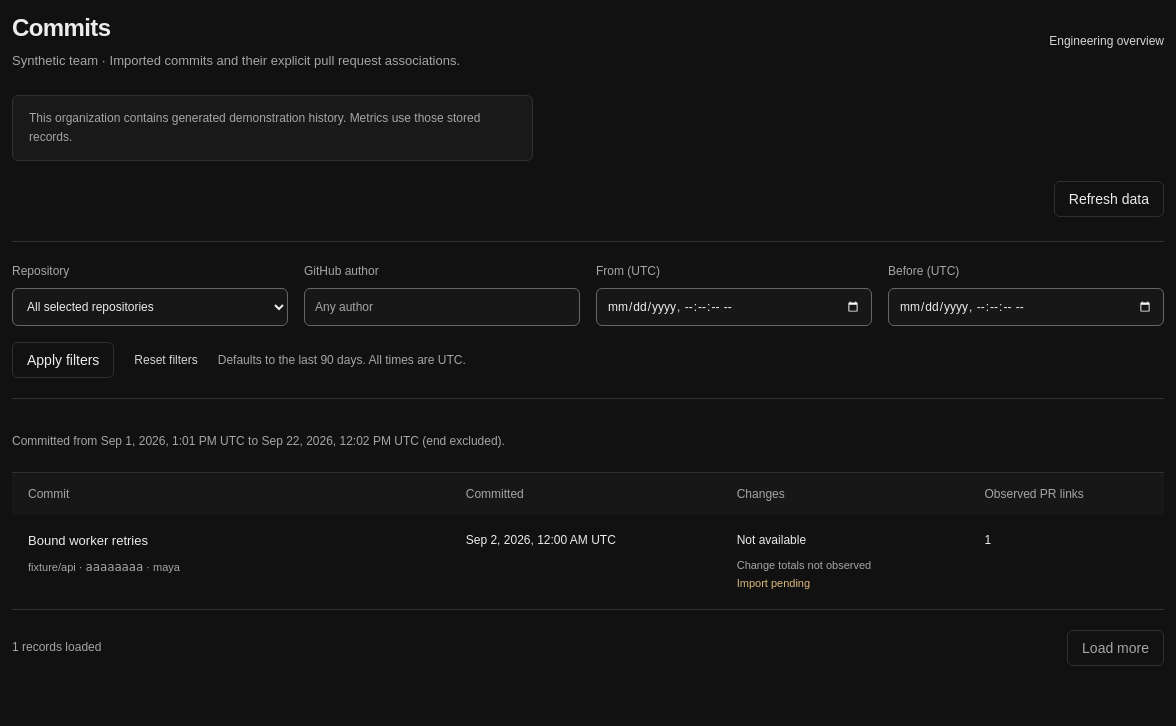
Test case: analytics presentation contracts › keeps loaded commits when the next page fails and retries the same cursor
Expected: the link "Bound worker retries" is shown, [28,533,148,548]
Click the button "Load more" at (1116, 648), box [1067,630,1164,666]
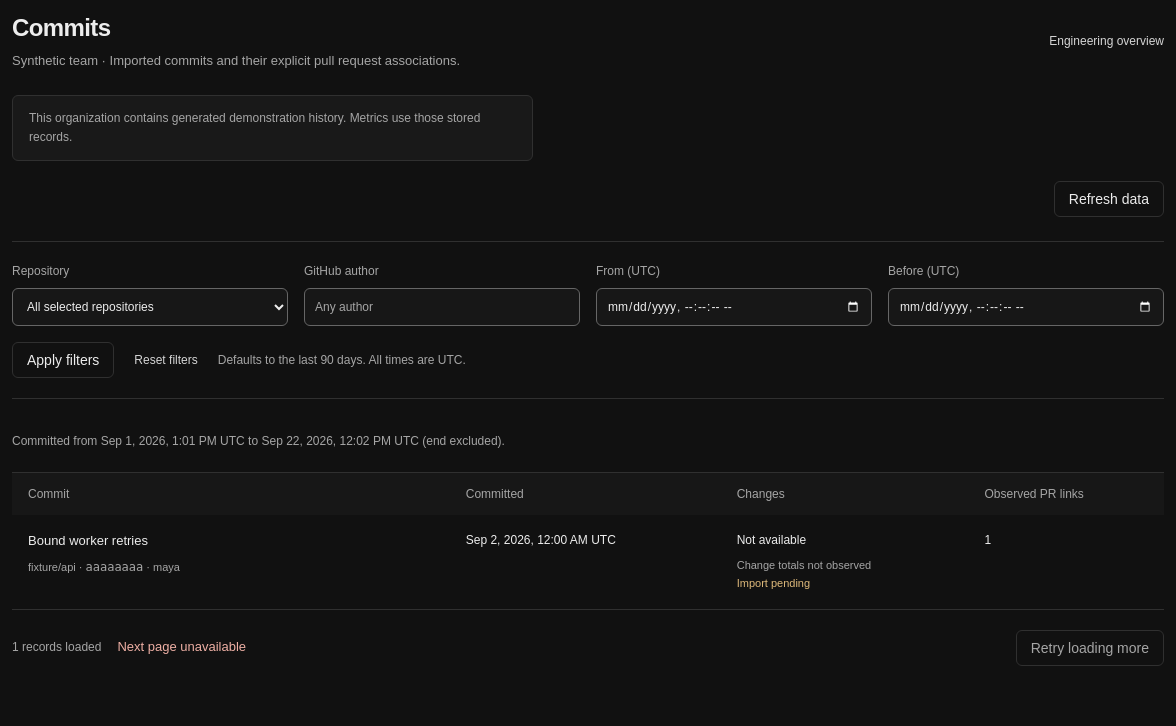
Expected: the link "Bound worker retries" is shown, [28,533,148,548]
Expected: the message reads "Next page unavailable", [117,639,246,654]
Click the button "Retry loading more" at (1090, 648), box [1016,630,1164,666]
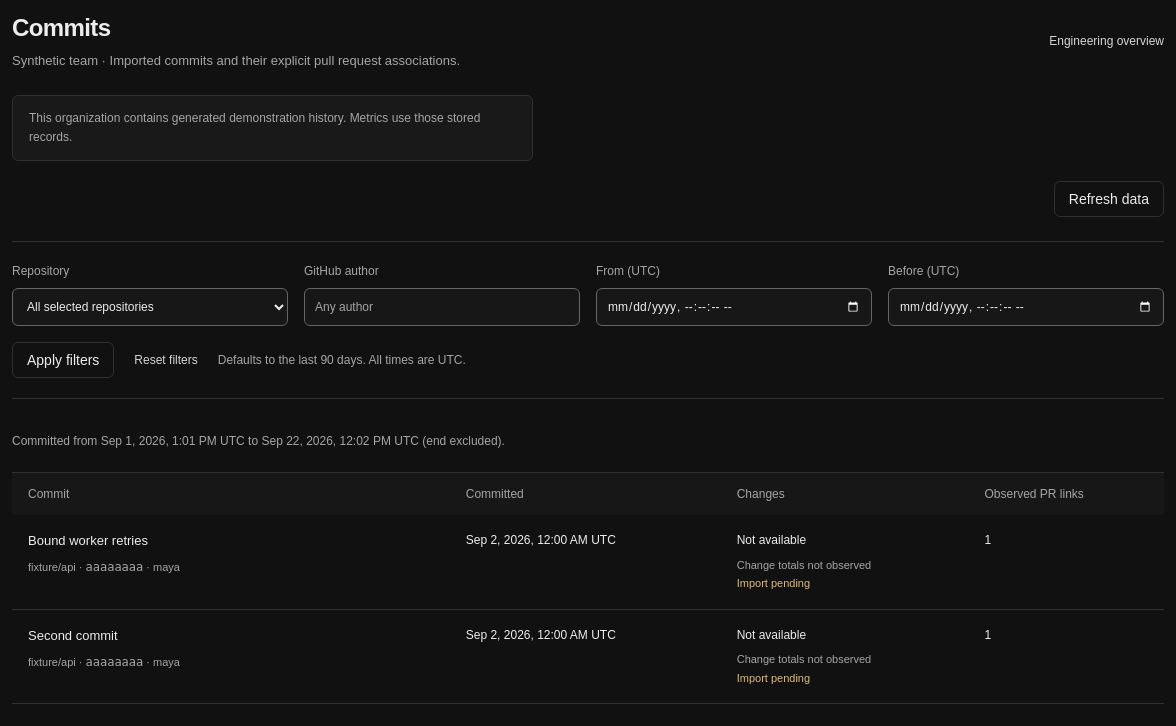
Expected: the link "Second commit" is shown, [28,628,118,642]
